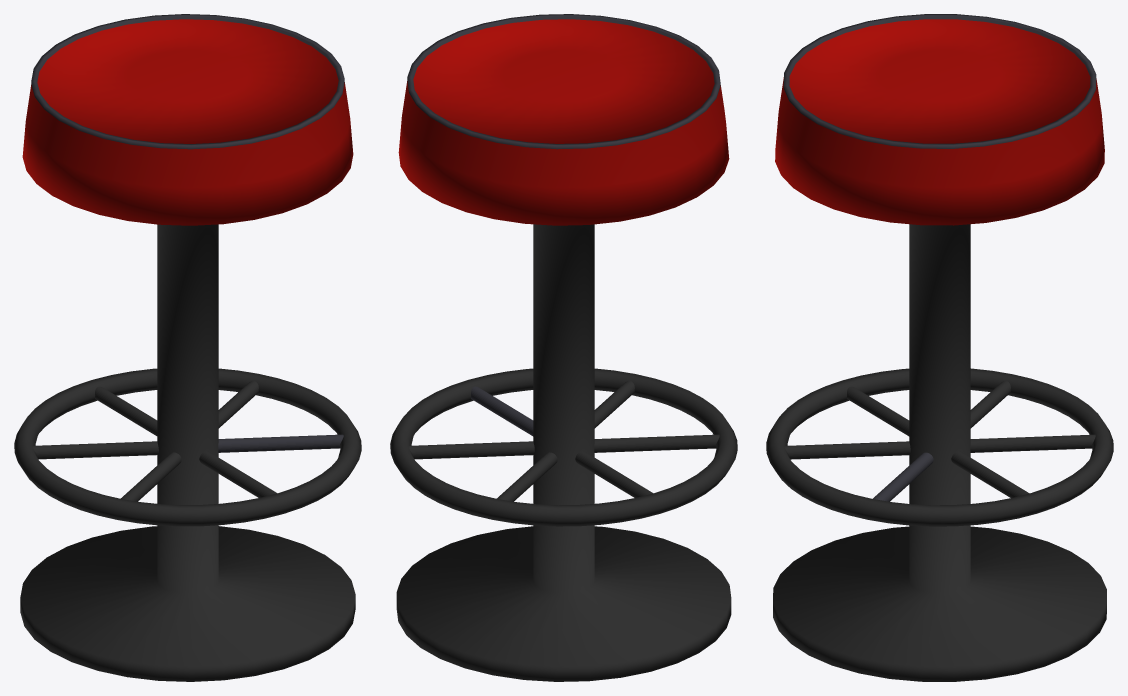
File: fuzeball_arcade_stool.glb
3 renders of one model, left to right at view 1: azimuth 30°, elevation 25°; view 2: azimuth 150°, elevation 25°; view 3: azimuth 270°, elevation 25°, orthographic.
Parts seen in each view (by area): view 1: room_stool_1.001; view 2: room_stool_1.001; view 3: room_stool_1.001.
Boxes of the visible parts, x1=… form: room_stool_1.001: x1=14, y1=14, x2=361, y2=681; room_stool_1.001: x1=390, y1=14, x2=737, y2=681; room_stool_1.001: x1=766, y1=14, x2=1113, y2=681.
Bounding box in the file's own units: 22.66 × 38.51 × 22.66.
